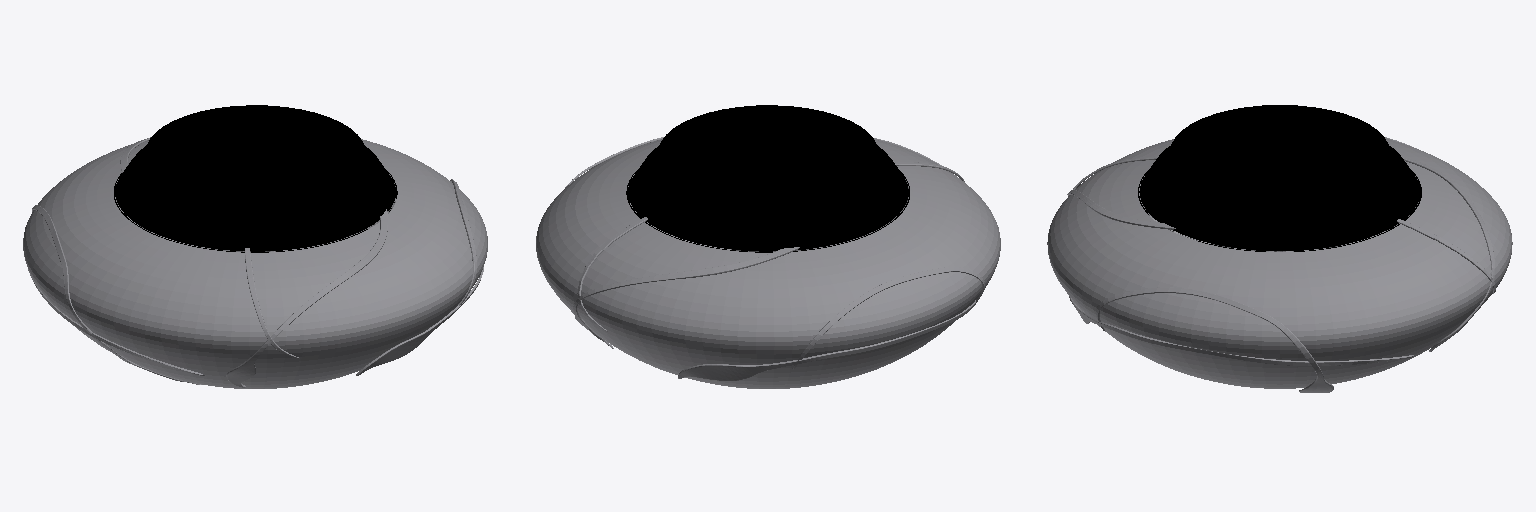
The model's file is ceilingLamp.obj.
3 renders of one model, left to right at view 1: azimuth 30°, elevation 25°; view 2: azimuth 150°, elevation 25°; view 3: azimuth 270°, elevation 25°, orthographic.
Parts seen in each view (by area): view 1: 10ravens_3D_M_022_Classic_light_02_34, 10ravens_3D_M_022_Classic_light_02_34.001; view 2: 10ravens_3D_M_022_Classic_light_02_34, 10ravens_3D_M_022_Classic_light_02_34.001; view 3: 10ravens_3D_M_022_Classic_light_02_34, 10ravens_3D_M_022_Classic_light_02_34.001.
Part boxes in pixels (x1,y1,x2,y2): 10ravens_3D_M_022_Classic_light_02_34: (23, 137, 487, 388); 10ravens_3D_M_022_Classic_light_02_34.001: (114, 105, 397, 252); 10ravens_3D_M_022_Classic_light_02_34: (536, 137, 1000, 388); 10ravens_3D_M_022_Classic_light_02_34.001: (626, 105, 909, 252); 10ravens_3D_M_022_Classic_light_02_34: (1047, 137, 1512, 392); 10ravens_3D_M_022_Classic_light_02_34.001: (1138, 105, 1421, 251).
Size of the model in its own units: 31.06 by 15.36 by 30.99.